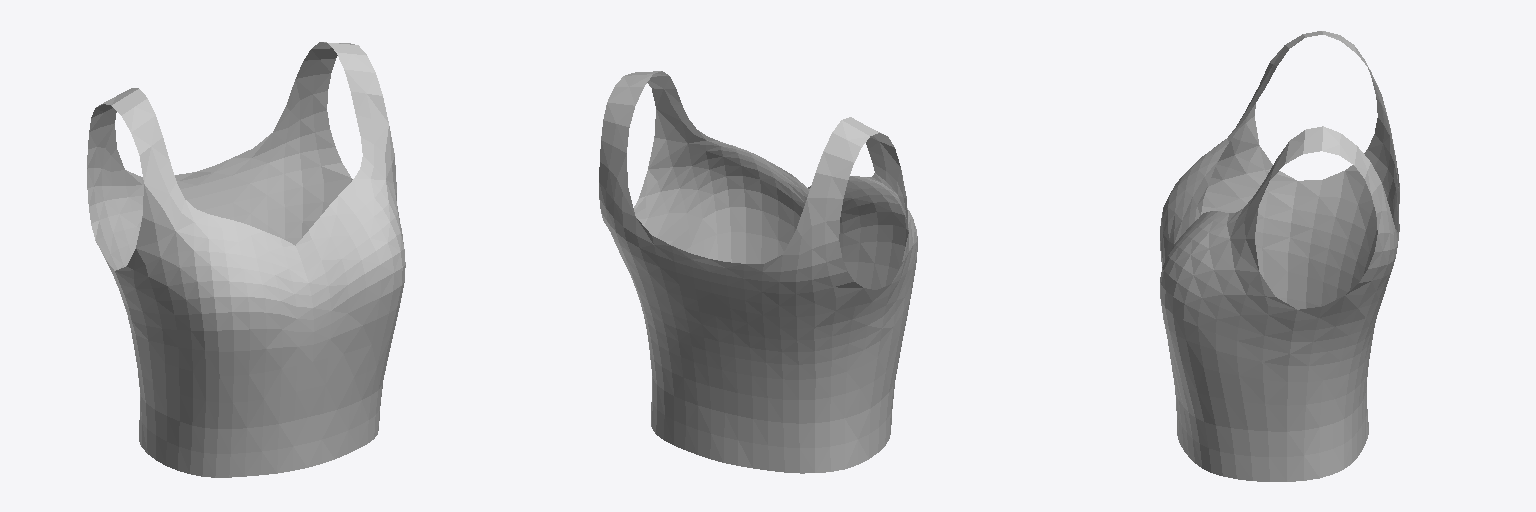
Rendered from 2_bodicesweetheart.obj.
3 renders of one model, left to right at view 1: azimuth 30°, elevation 25°; view 2: azimuth 150°, elevation 25°; view 3: azimuth 270°, elevation 25°, orthographic.
Parts seen in each view (by area): view 1: bodicefrontleft, bodicefrontright, bodicebackright, bodicebackleft, object_7, bodiceback; view 2: bodicebackleft, bodiceback, bodicefrontleft, object_7, bodicebackright, bodicefrontright; view 3: object_7, bodicebackright, bodicebackleft, bodicefrontleft, bodicefrontright, bodiceback.
Boxes of the visible parts, x1=… form: bodicefrontleft: x1=112, y1=89, x2=313, y2=477; bodicefrontright: x1=296, y1=179, x2=402, y2=467; bodicebackright: x1=267, y1=42, x2=354, y2=245; bodicebackleft: x1=87, y1=88, x2=147, y2=453; object_7: x1=328, y1=43, x2=405, y2=438; bodiceback: x1=125, y1=133, x2=272, y2=232; bodicebackleft: x1=779, y1=120, x2=890, y2=473; bodiceback: x1=636, y1=218, x2=784, y2=472; bodicefrontleft: x1=808, y1=117, x2=917, y2=458; object_7: x1=625, y1=71, x2=731, y2=262; bodicebackright: x1=599, y1=74, x2=673, y2=444; bodicefrontright: x1=720, y1=142, x2=809, y2=263; object_7: x1=1173, y1=126, x2=1322, y2=481; bodicebackright: x1=1287, y1=126, x2=1396, y2=481; bodicebackleft: x1=1287, y1=31, x2=1396, y2=309; bodicefrontleft: x1=1160, y1=31, x2=1322, y2=302; bodicefrontright: x1=1160, y1=211, x2=1228, y2=467; bodiceback: x1=1357, y1=161, x2=1399, y2=456.
Size of the model in its own units: 11.63 by 14.71 by 9.15.